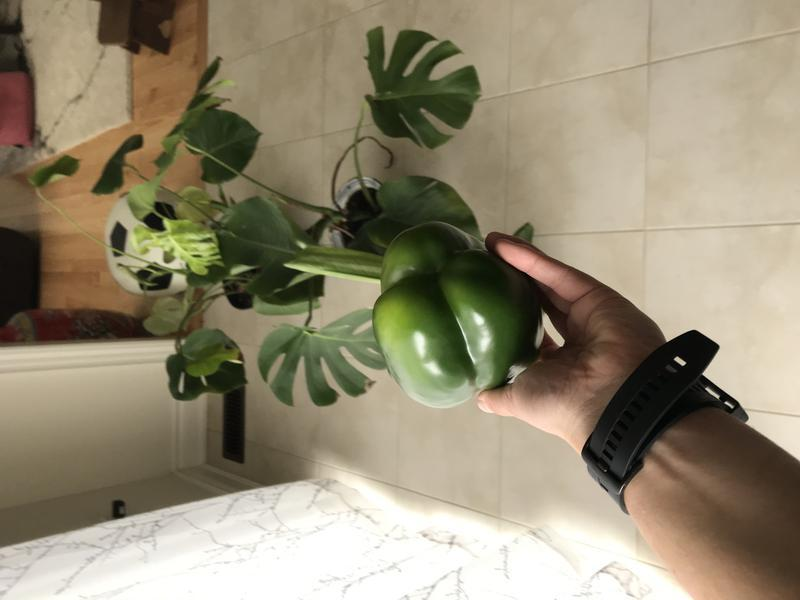green_pepper: (368, 217, 559, 417)
